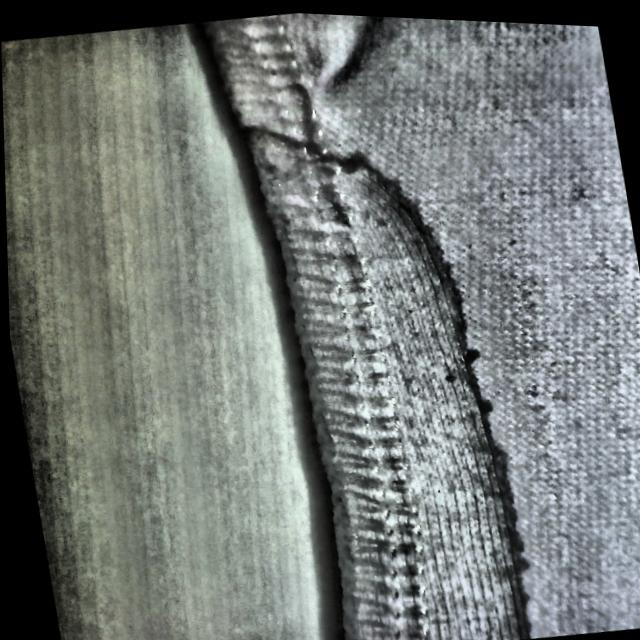seam: (250, 118, 612, 640)
